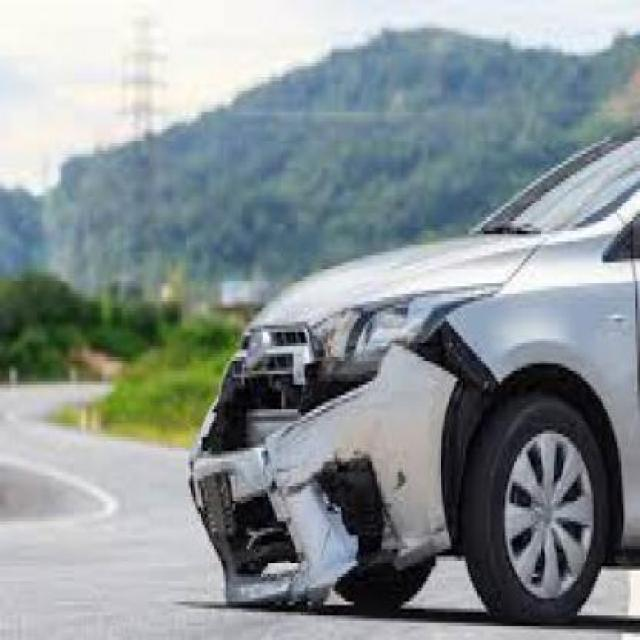damaged-front-bumper: (192, 384, 456, 600)
